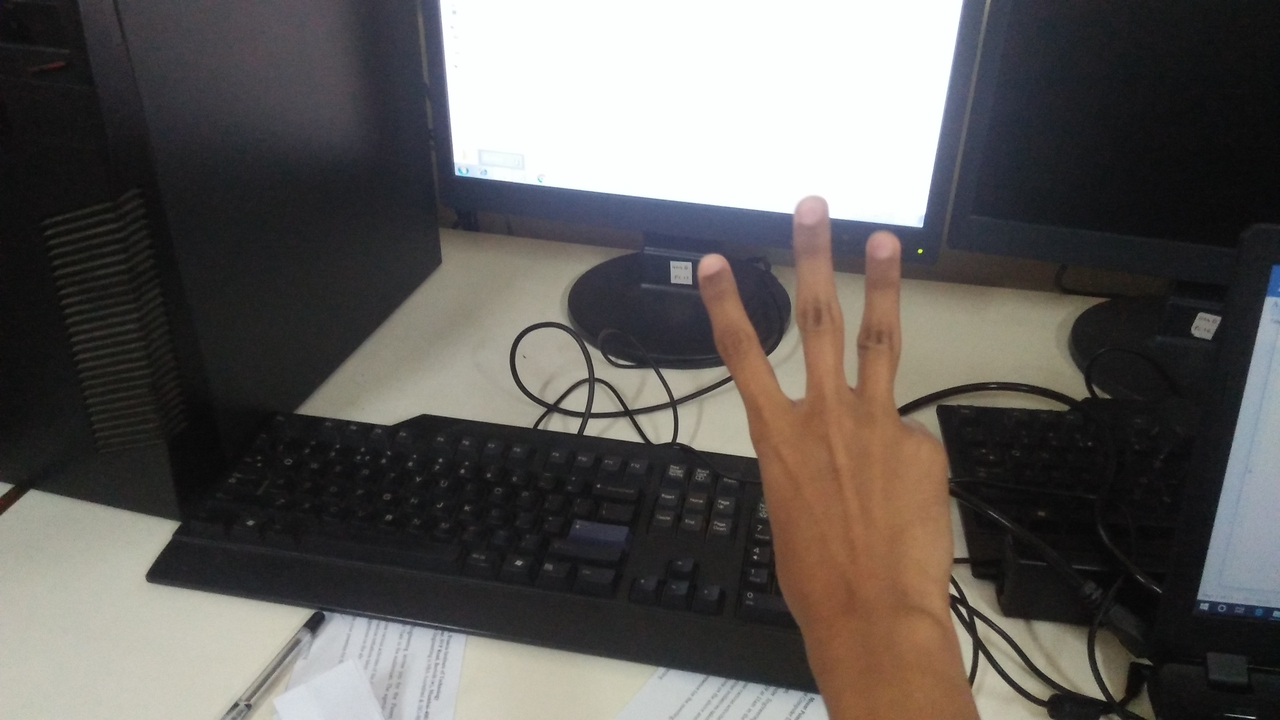fingertip: (690, 246, 742, 294), (790, 186, 840, 230), (860, 226, 910, 268)
